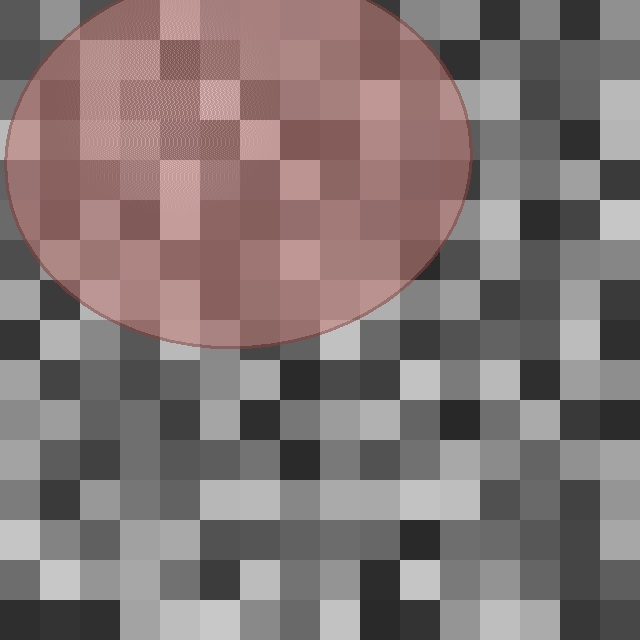lens: (6, 0, 470, 347)
